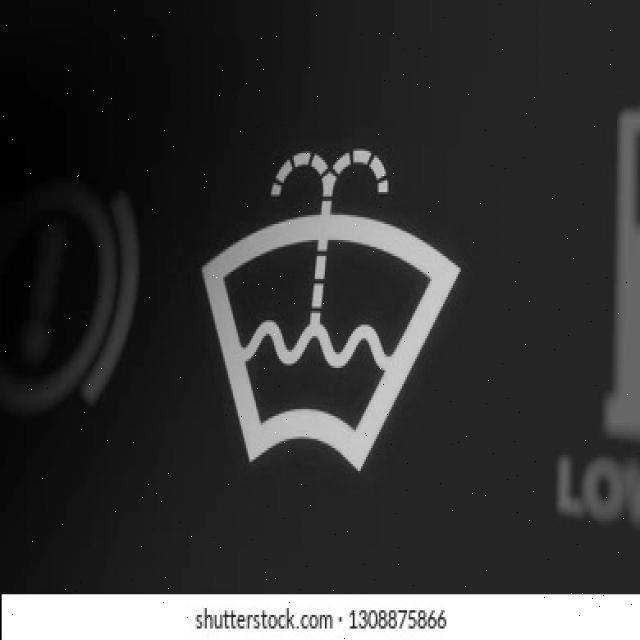Washer Fluid: (200, 150, 465, 474)
